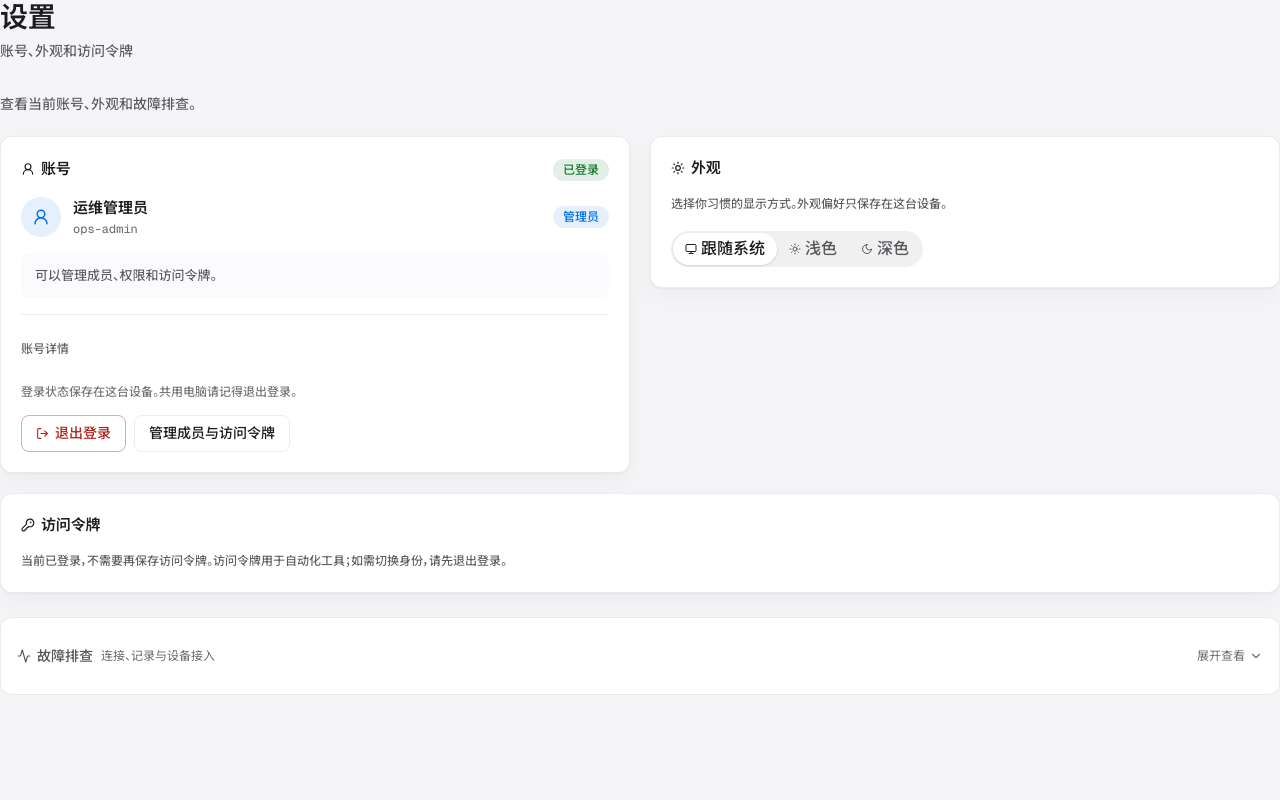
Test: Settings 账号与令牌面板 › 未知鉴权形态回落原值展示，不伪造中文语义
This screenshot has width=1280, height=800.
What coordinates should you click on to do the following:
click the heading "故障排查 连接、记录与设备接入 展开查看"
I would click on:
 (65, 656)
Its box is [17,647,1263,665].
(page scrolled)
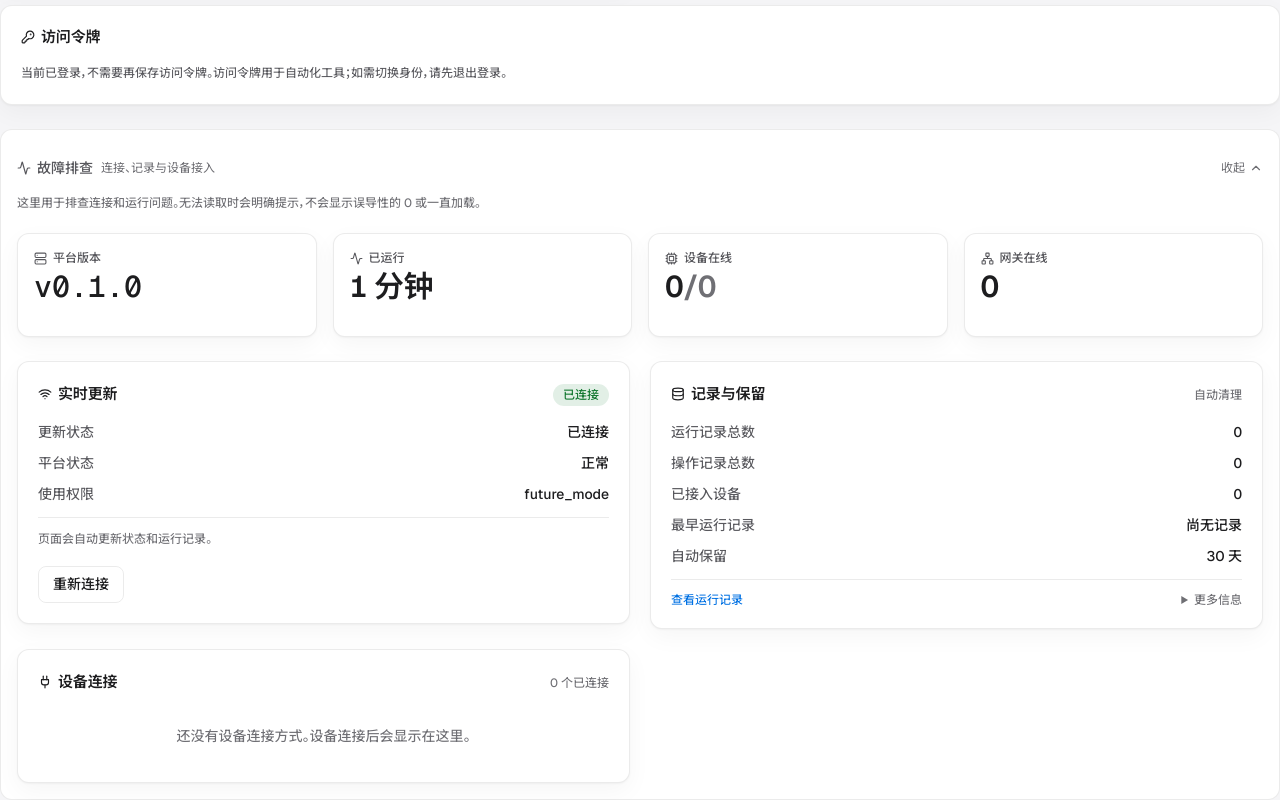
Result: the heading "故障排查 连接、记录与设备接入 收起" is shown at [17,159,1263,177]
Result: the text "future_mode" is shown at [524,484,609,505]
